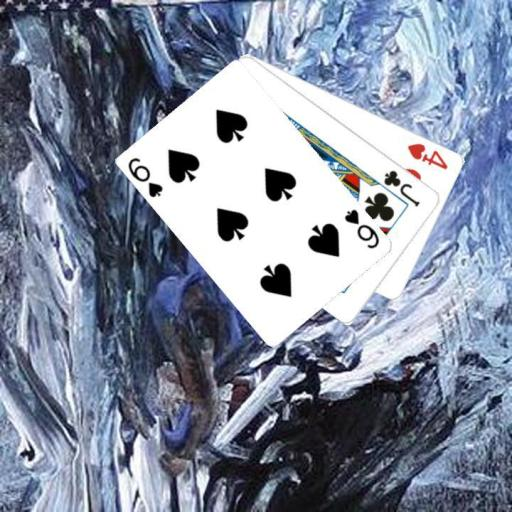4H: (405, 140, 450, 172)
6S: (341, 207, 382, 251), (125, 154, 165, 199)
JC: (381, 167, 422, 209)
